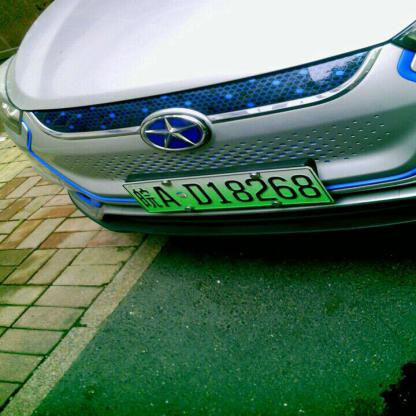lp: (123, 168, 332, 212)
